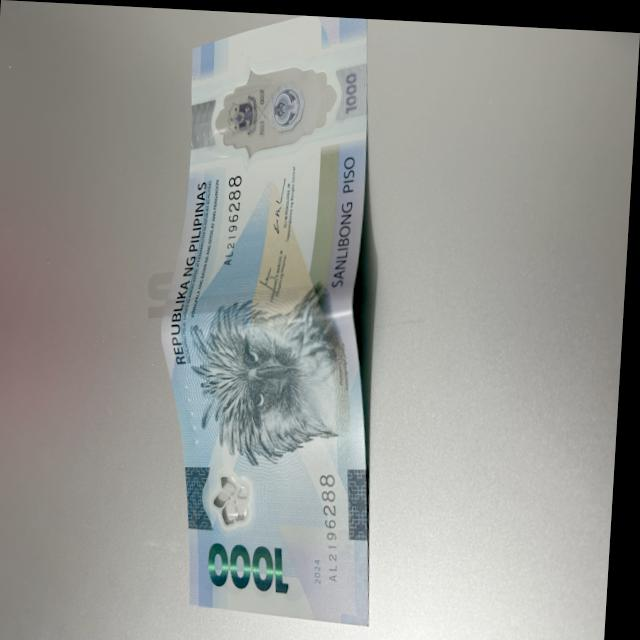clear_window: (215, 41, 344, 160)
eagle: (206, 278, 349, 457)
sampaguita: (212, 457, 261, 534)
